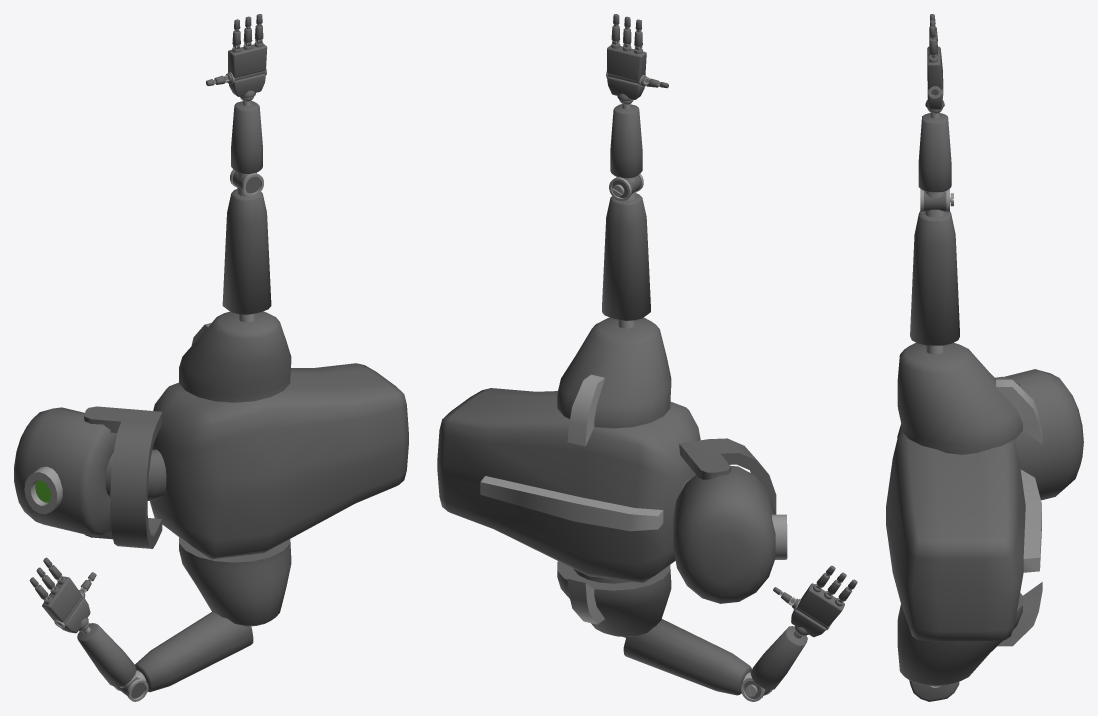
The model's file is ironGiant.fbx.
3 views of the same model, side by side, from view 1: azimuth 30°, elevation 25°; view 2: azimuth 150°, elevation 25°; view 3: azimuth 270°, elevation 25° (orthographic). The views are drawn at different scales.
Visible parts, largest first — view 1: arm, Circle.010, Circle.012, arm.001, arm.002, forearm, forearm.001, palm2, palm2.001, palm1, palm1.001; view 2: arm, Circle.010, arm.001, arm.002, Circle.012, forearm, forearm.001, palm2, palm2.001, palm1, palm1.001; view 3: arm, arm.001, Circle.010, forearm, arm.002, palm2, palm1.
Part boxes in pixels (x1,y1,x2,y2): arm: (150,311,408,626); Circle.010: (14,407,166,537); Circle.012: (84,406,162,548); arm.001: (222,169,271,322); arm.002: (114,611,253,701); forearm: (231,96,262,177); forearm.001: (77,622,136,688); palm2: (228,42,267,77); palm2.001: (42,576,81,622); palm1: (225,68,266,97); palm1.001: (54,590,90,633); arm: (437,317,700,636); Circle.010: (672,465,787,603); arm.001: (602,173,650,328); arm.002: (623,619,772,701); Circle.012: (679,438,776,514); forearm: (610,99,642,182); forearm.001: (751,626,807,690); palm2: (607,43,646,80); palm2.001: (797,583,844,626); palm1: (606,71,647,100); palm1.001: (791,598,831,637); arm: (886,342,1042,686); arm.001: (910,188,959,354); Circle.010: (1004,369,1083,500); forearm: (918,108,951,198); arm.002: (909,680,959,701); palm2: (927,46,942,89); palm1: (925,79,944,109).
Size of the model in its own units: 28.3 by 46.47 by 11.82.
